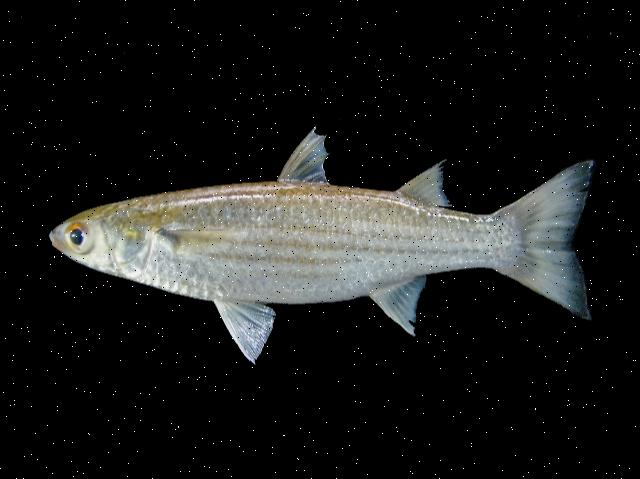Mulut: (45, 214, 83, 286)
Sirip Anal: (362, 260, 444, 344)
Sirip Dada: (162, 217, 255, 285)
Sirip Ekor: (494, 150, 618, 330)
Sirip Perut: (210, 286, 286, 374)
Sirip Punggung: (270, 118, 466, 220)
